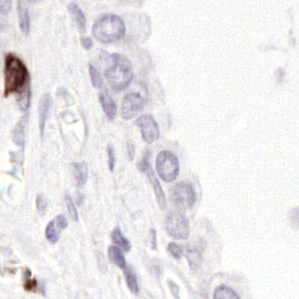Lymphocyte: (4, 54, 28, 98)
